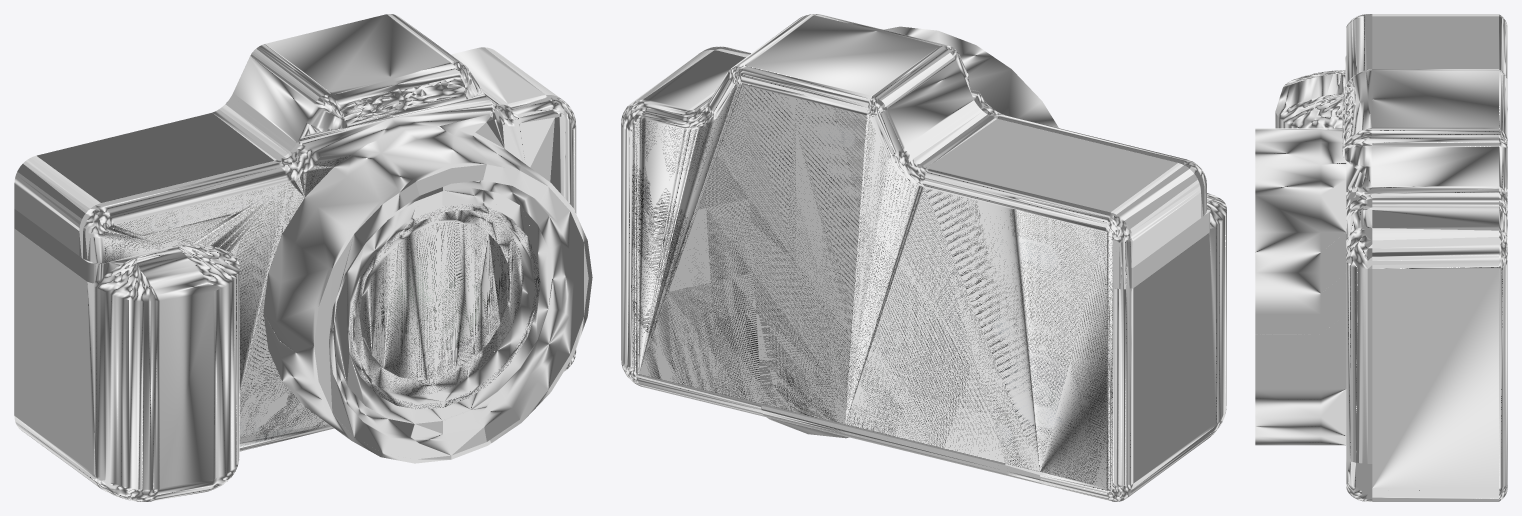
The model's file is model_align.obj.
3 renders of one model, left to right at view 1: azimuth 30°, elevation 25°; view 2: azimuth 150°, elevation 25°; view 3: azimuth 270°, elevation 25°, orthographic. The views are drawn at different scales.
Size of the model in its own units: 0.1551 by 0.1024 by 0.0707.
Materials: 7 (7 with a texture image).
